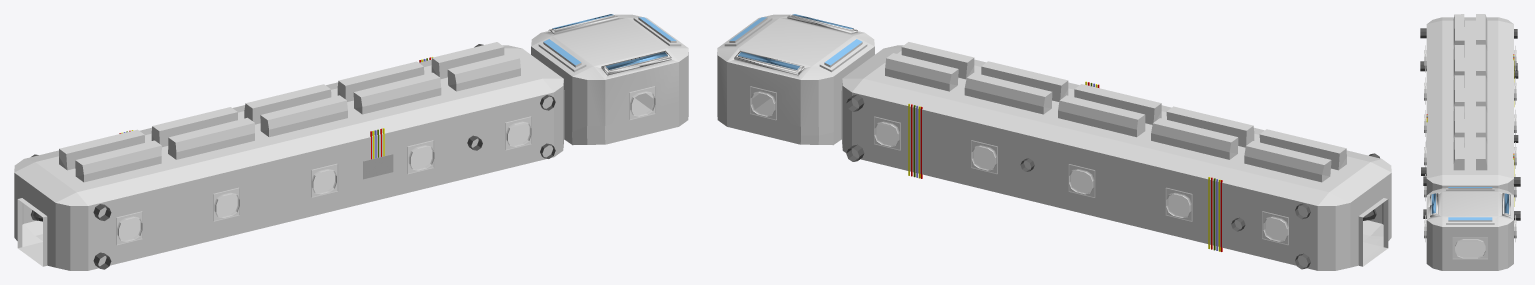
File: Nave2.fbx
The picture shows the model from 3 angles, left to right: view 1: azimuth 30°, elevation 25°; view 2: azimuth 150°, elevation 25°; view 3: azimuth 270°, elevation 25°; orthographic projection. The views are drawn at different scales.
Parts seen in each view (by area): view 1: pCylinder28; view 2: pCylinder28; view 3: pCylinder28.
Part boxes in pixels (x1,y1,x2,y2): pCylinder28: (14,14,688,270); pCylinder28: (717,14,1391,270); pCylinder28: (1420,14,1520,270).
Size of the model in its own units: 40.04 by 5.46 by 8.
